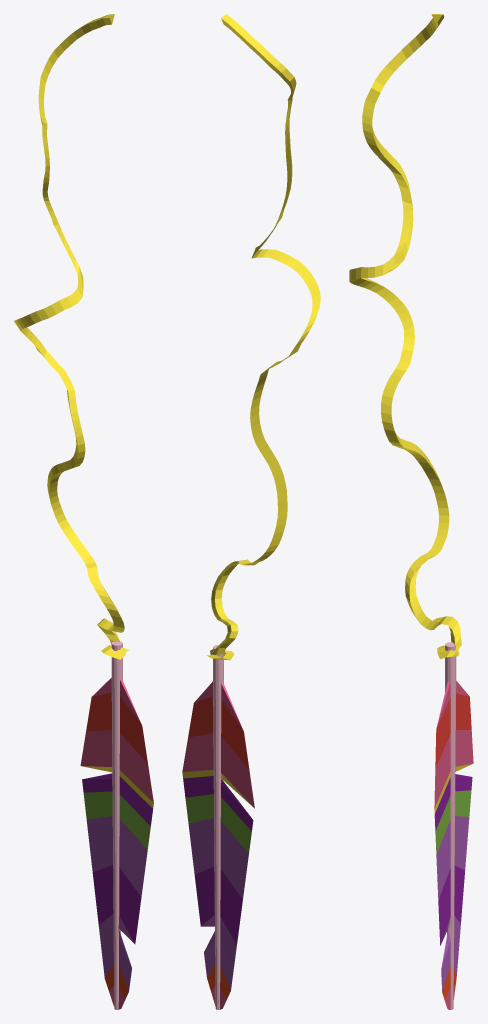
File: featherString.fbx
3 views of the same model, side by side, from view 1: azimuth 30°, elevation 25°; view 2: azimuth 210°, elevation 25°; view 3: azimuth 330°, elevation 25° (orthographic).
Parts seen in each view (by area): view 1: mesh_2002571839, group_1954238734; view 2: mesh_2002571839, group_1954238734; view 3: mesh_2002571839, group_1954238734.
Boxes of the visible parts, left/top/right/bottom form: mesh_2002571839: left=80, top=641, right=153, bottom=1009; group_1954238734: left=14, top=14, right=129, bottom=659; mesh_2002571839: left=182, top=645, right=254, bottom=1009; group_1954238734: left=206, top=14, right=320, bottom=660; mesh_2002571839: left=434, top=642, right=473, bottom=1009; group_1954238734: left=349, top=14, right=461, bottom=659.
Bounding box in the file's own units: 87.85 × 779 × 79.71.
